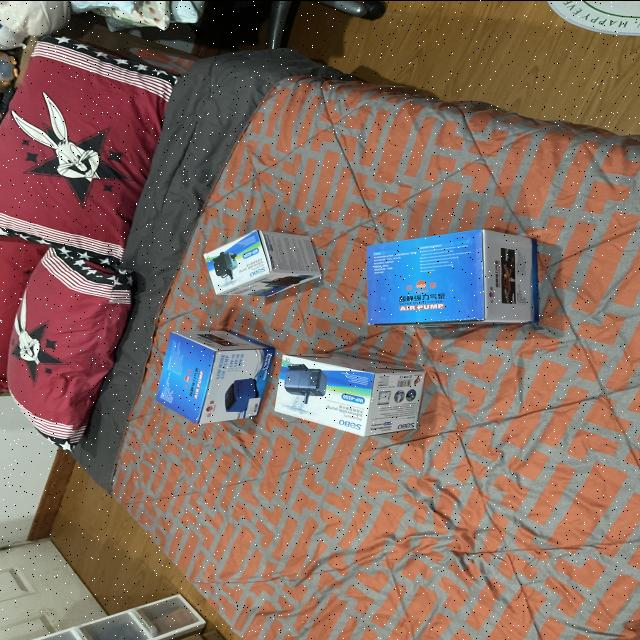SOBO_WP_4200: (269, 336, 441, 446), (194, 212, 340, 304)
YAMANO_LPP_20: (356, 218, 560, 332), (146, 313, 278, 427)
